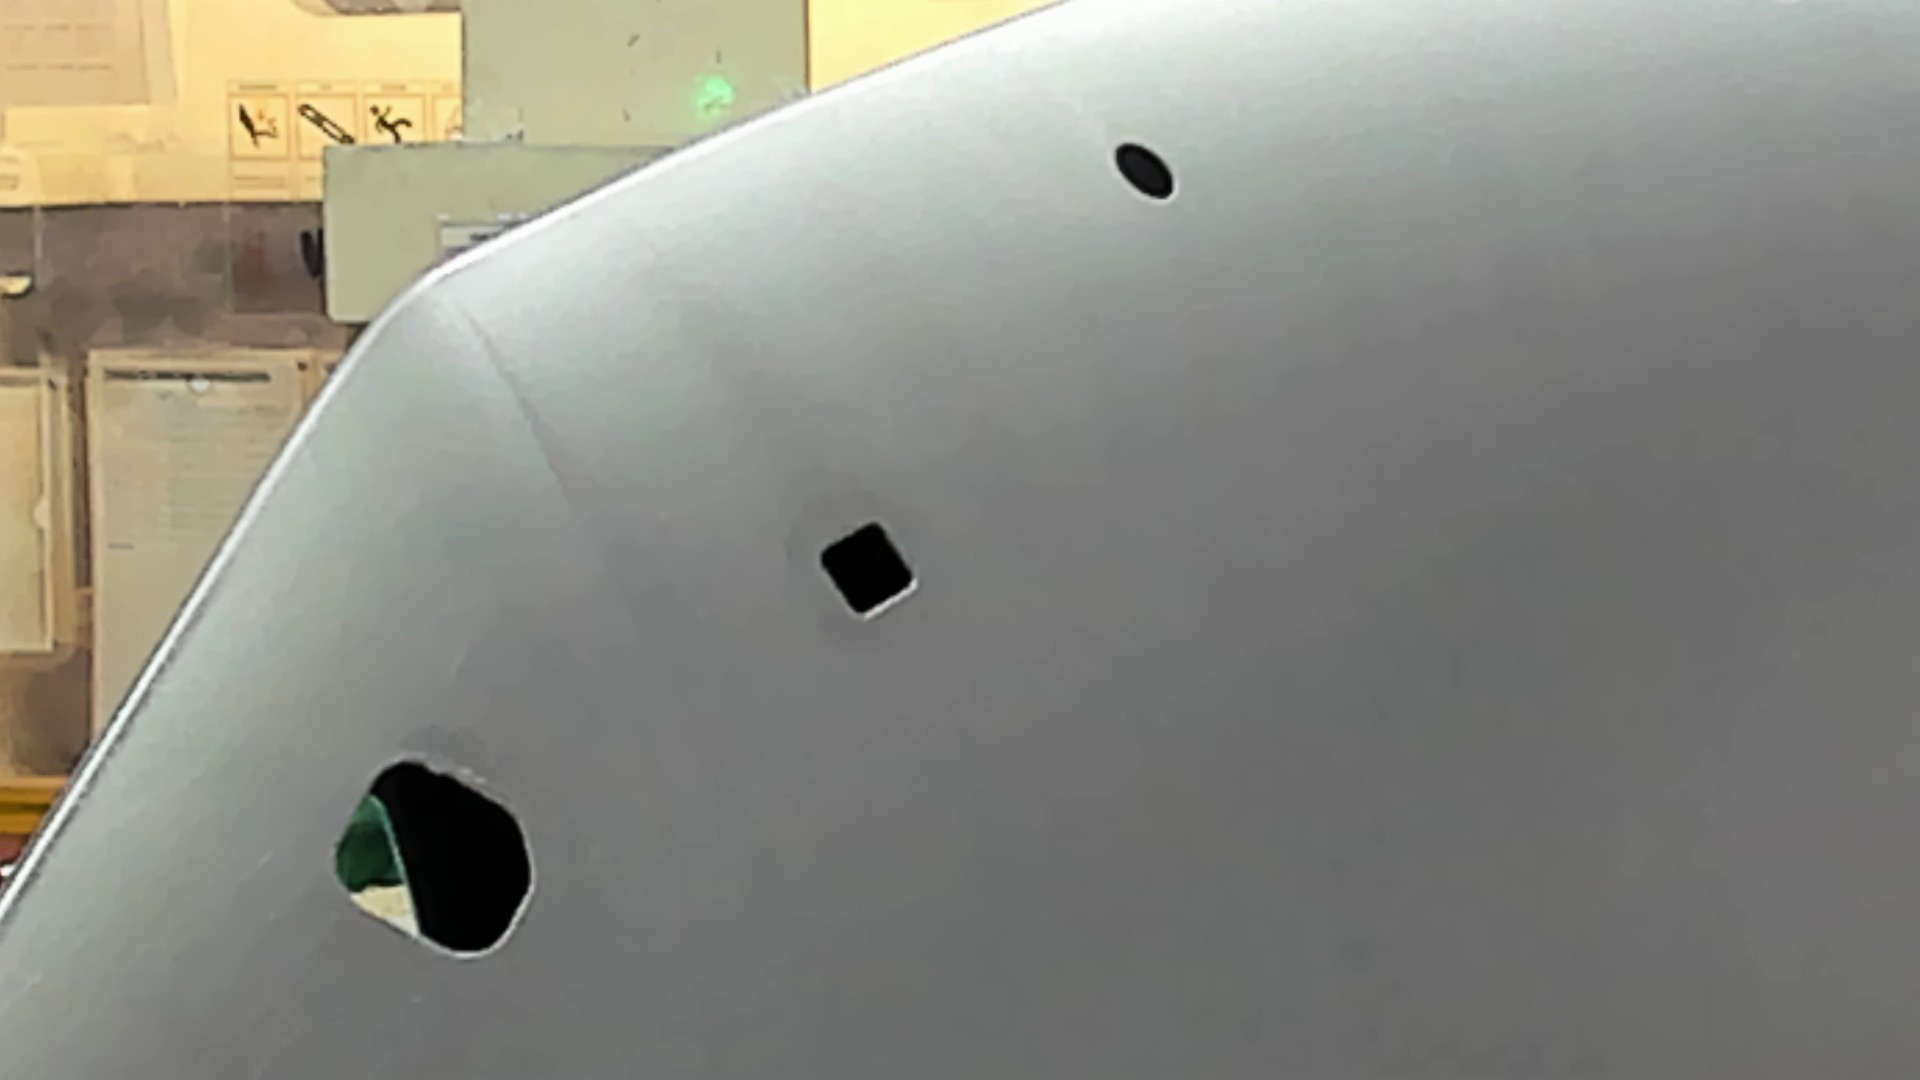chico: (1095, 129, 1205, 214)
grande: (305, 740, 575, 986)
mediano: (795, 504, 945, 633)
